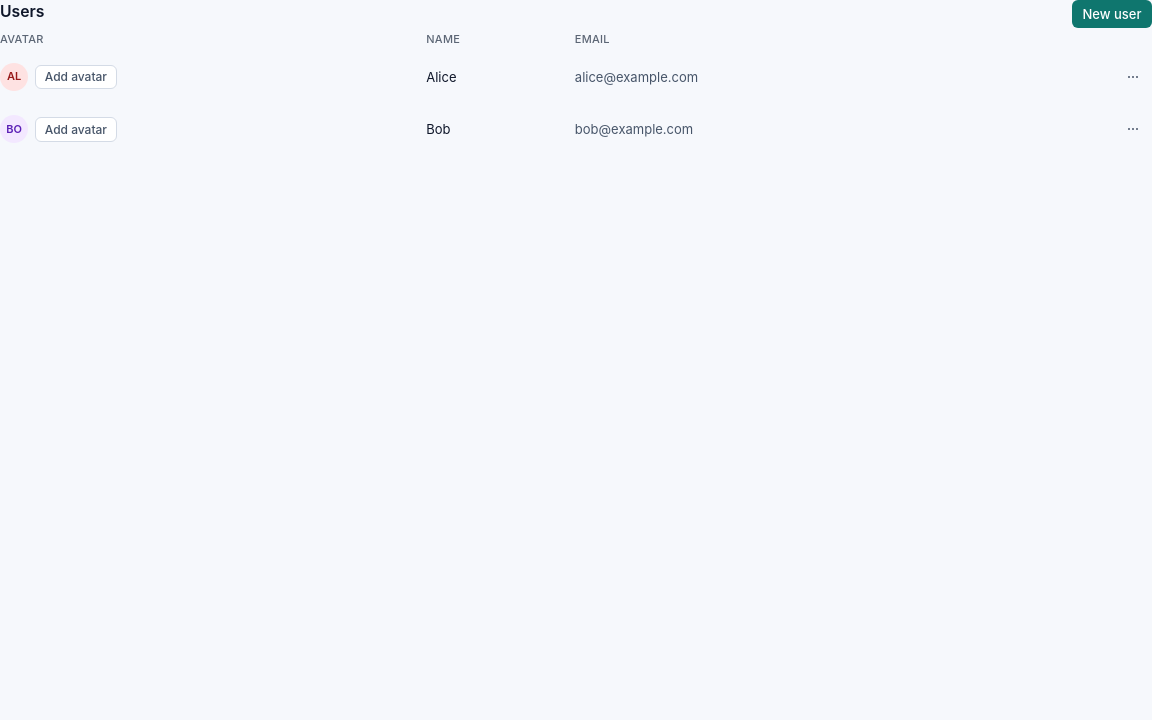
Test: UsersPanel Edit dialog (PRU-47) › edits name, email and timezone and Save PUTs them to /api/users/:id
Click the button named "Actions for user \"Alice\"".
click(1133, 77)  # box [1114, 58, 1151, 96]
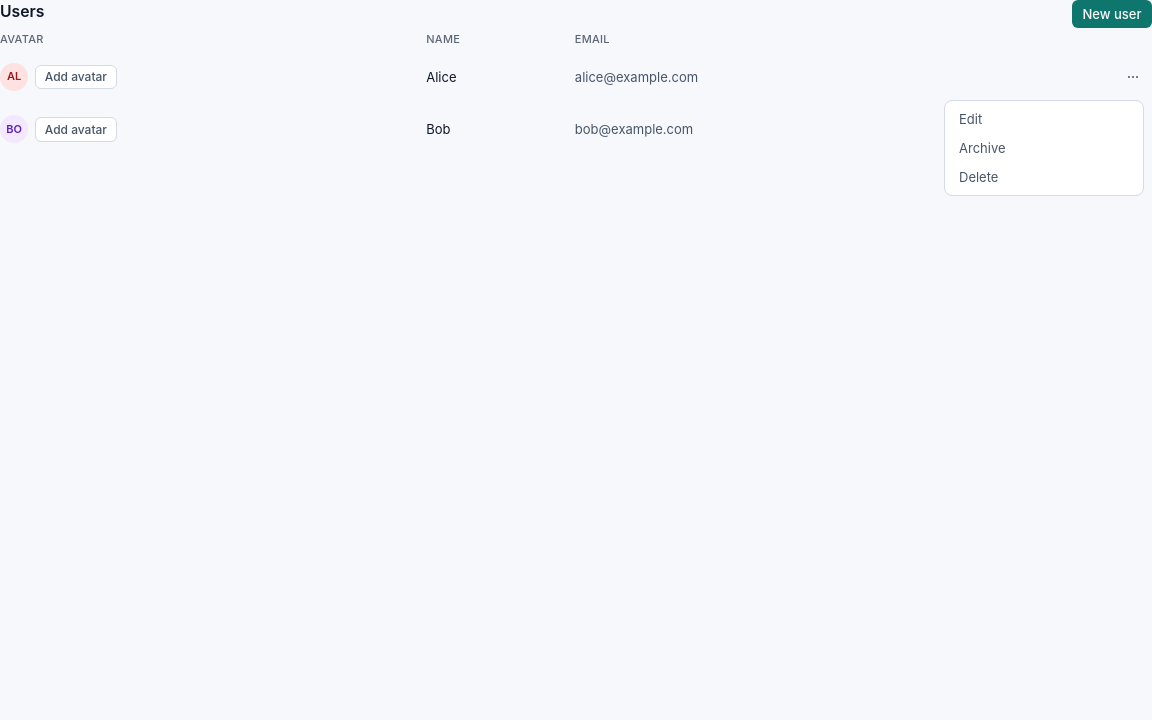
Click the menu item with test id "user-edit-u-alice".
click(1044, 119)  # box [948, 105, 1140, 134]
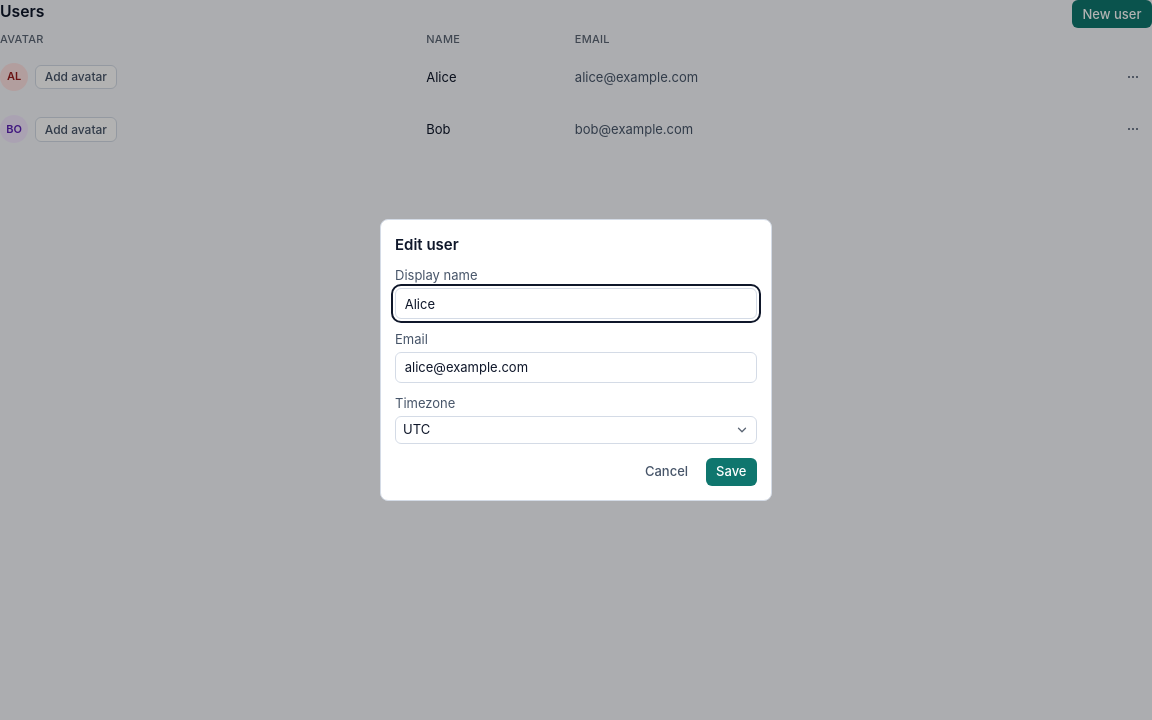
Expected: the element with test id "user-edit-dialog-u-alice" is shown, [395, 266, 757, 486]
Replace the text in the field with test id "user-edit-name-u-alice" with "Alice Cooper" at (576, 304), box [395, 288, 757, 319]
Replace the text in the field with test id "user-edit-email-u-alice" with "new@example.com" at (576, 368), box [395, 352, 757, 383]
Click the button with test id "user-edit-timezone-u-alice".
click(417, 429)  # box [395, 416, 757, 444]
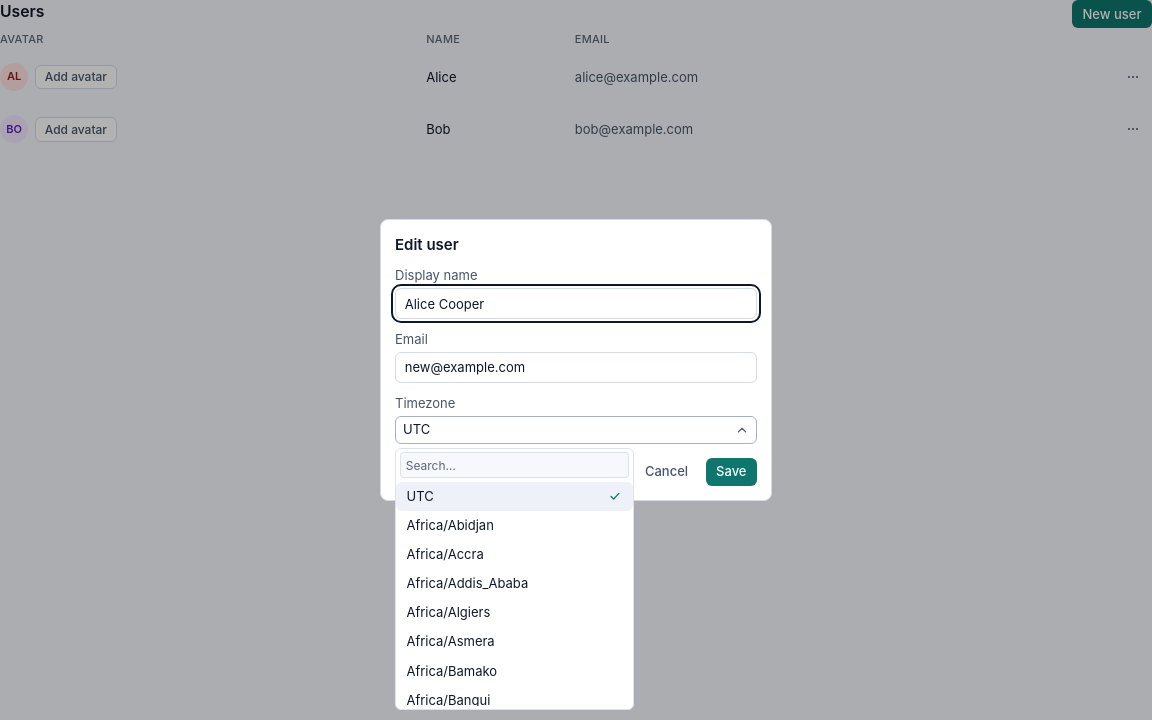
Type "New_York" into the dropdown with test id "user-edit-timezone-search-u-alice".
click(514, 465); type("New_York")  # box [400, 452, 629, 478]
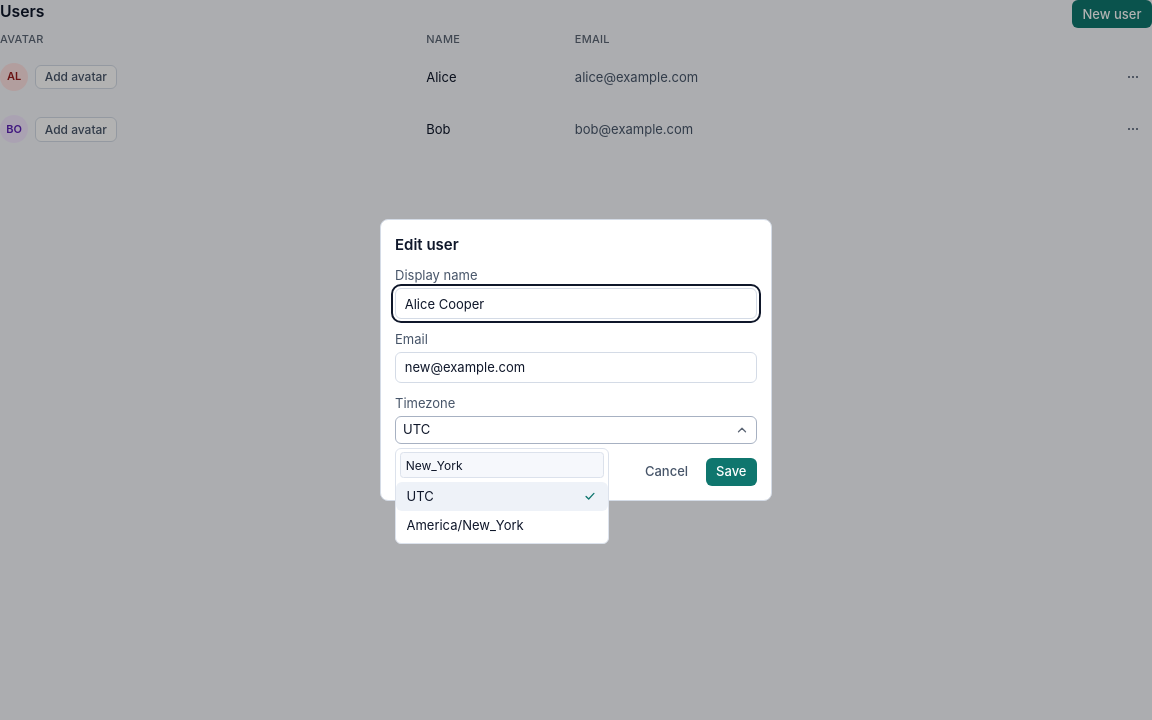
Click the option with test id "user-edit-timezone-option-u-alice-America/New_York".
click(502, 525)  # box [396, 511, 608, 540]
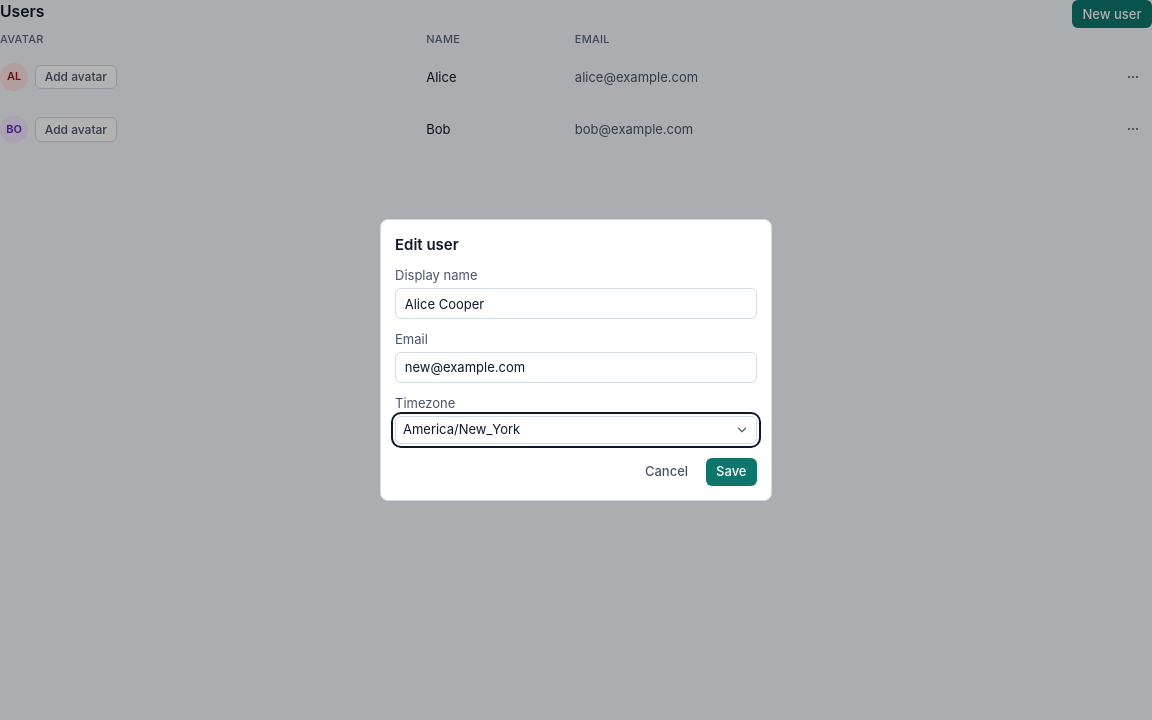
Click the button with test id "user-edit-save-u-alice".
click(731, 472)  # box [706, 458, 757, 486]
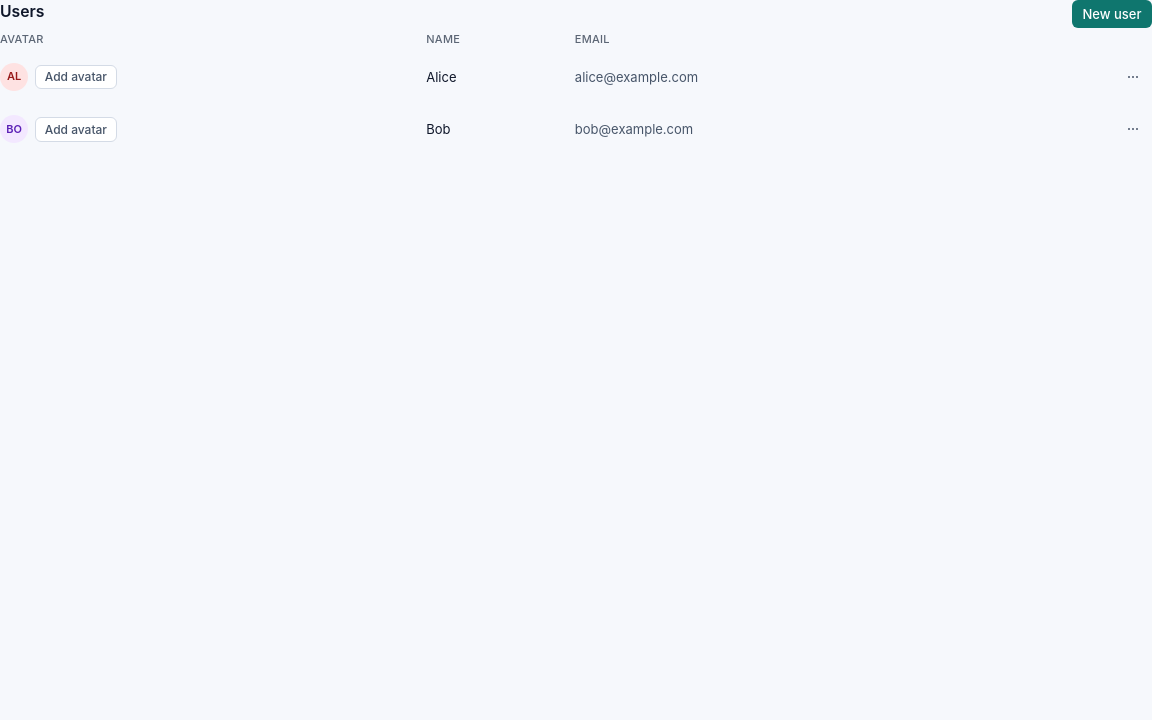
Expected: the element with test id "user-edit-dialog-u-alice" is gone
